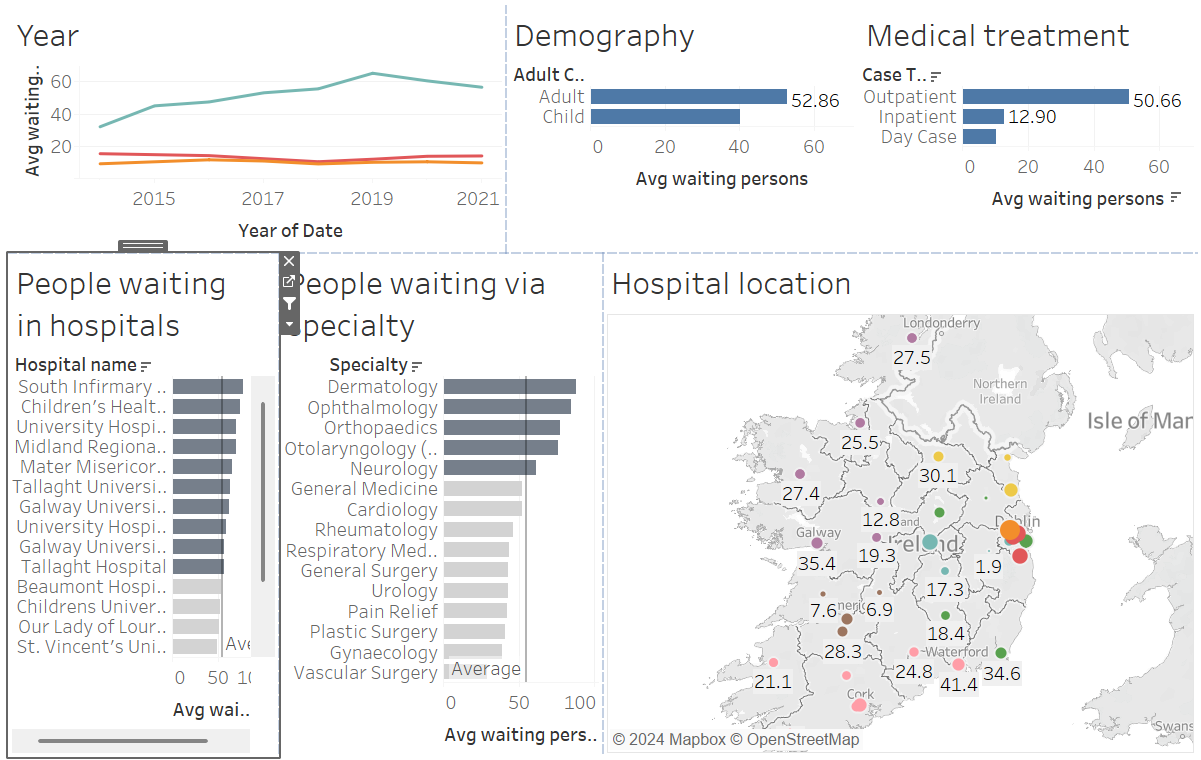

What the dashboard file says about the page in this screenshot:
{"tool":"tableau","page":{"name":"Citizen dashboard","canvas":[1366,768],"ordinal":0},"visuals":[{"type":"worksheet","title":"Year","mark":"Automatic","rows":["Calculation_1209779470815080448"],"cols":["Date"],"box":[8,8,498,248]},{"type":"worksheet","title":"Demography","mark":"Automatic","rows":["Adult_Child"],"cols":["Calculation_1209779470815080448"],"box":[506,8,352,248]},{"type":"worksheet","title":"Medical treatment","mark":"Automatic","rows":["Case Type"],"cols":["Calculation_1209779470815080448"],"box":[858,8,340,248]},{"type":"legend","title":"Map","param":"[federated.0zbqyyu0m6g2441e75fik08r3ct3].[usr:Calculation_1209779470815080448:qk","box":[1198,8,160,209]},{"type":"legend","title":"Map","param":"[federated.0zbqyyu0m6g2441e75fik08r3ct3].[none:Hospital_group:nk]","box":[1198,217,160,234]},{"type":"worksheet","title":"People waiting in hospitals","mark":"Automatic","rows":["Hospital_name"],"cols":["Calculation_1209779470815080448"],"box":[8,256,271,504]},{"type":"worksheet","title":"People waiting via specialty","mark":"Automatic","rows":["Specialty"],"cols":["Calculation_1209779470815080448"],"box":[279,256,324,504]},{"type":"worksheet","title":"Map","mark":"Automatic","rows":["Lat"],"cols":["Long"],"box":[603,256,595,504]},{"type":"legend","title":"Year","param":"[federated.0zbqyyu0m6g2441e75fik08r3ct3].[none:Case Type:nk]","box":[1198,451,160,109]},{"type":"legend","title":"People waiting in hospitals","param":"[federated.0zbqyyu0m6g2441e75fik08r3ct3].[usr:Calculation_1209779470816382977:nk","box":[1198,560,160,84]}]}

Visuals, with their boxes on the page's 1366x768 design canvas (x1, y1, x2, y2). These are canvas units, not pixel positions in the 1201x760 screenshot, which may show the page scaled, cropped or inside an application window:
"Year" worksheet: 8 8 506 256
"Demography" worksheet: 506 8 858 256
"Medical treatment" worksheet: 858 8 1198 256
"Map" legend: 1198 8 1358 217
"Map" legend: 1198 217 1358 451
"People waiting in hospitals" worksheet: 8 256 279 760
"People waiting via specialty" worksheet: 279 256 603 760
"Map" worksheet: 603 256 1198 760
"Year" legend: 1198 451 1358 560
"People waiting in hospitals" legend: 1198 560 1358 644
